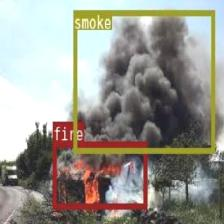fire: (52, 140, 146, 208)
smoke: (72, 10, 214, 152)
